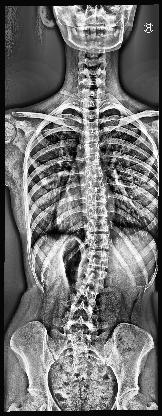Vertebrae: (64, 315, 98, 335), (70, 298, 97, 318), (85, 268, 107, 288), (77, 284, 103, 300), (88, 232, 111, 250), (90, 249, 110, 269), (86, 217, 110, 233), (88, 177, 108, 193), (84, 166, 106, 180), (87, 192, 109, 206), (88, 204, 108, 218), (82, 119, 102, 132), (83, 131, 101, 145), (82, 106, 100, 119), (85, 155, 103, 167), (84, 143, 100, 155)
